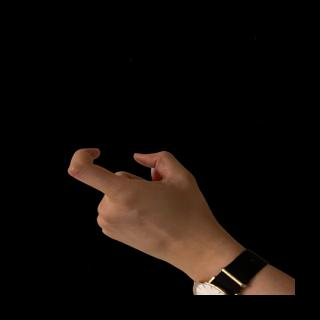HATE: (59, 140, 221, 271)
